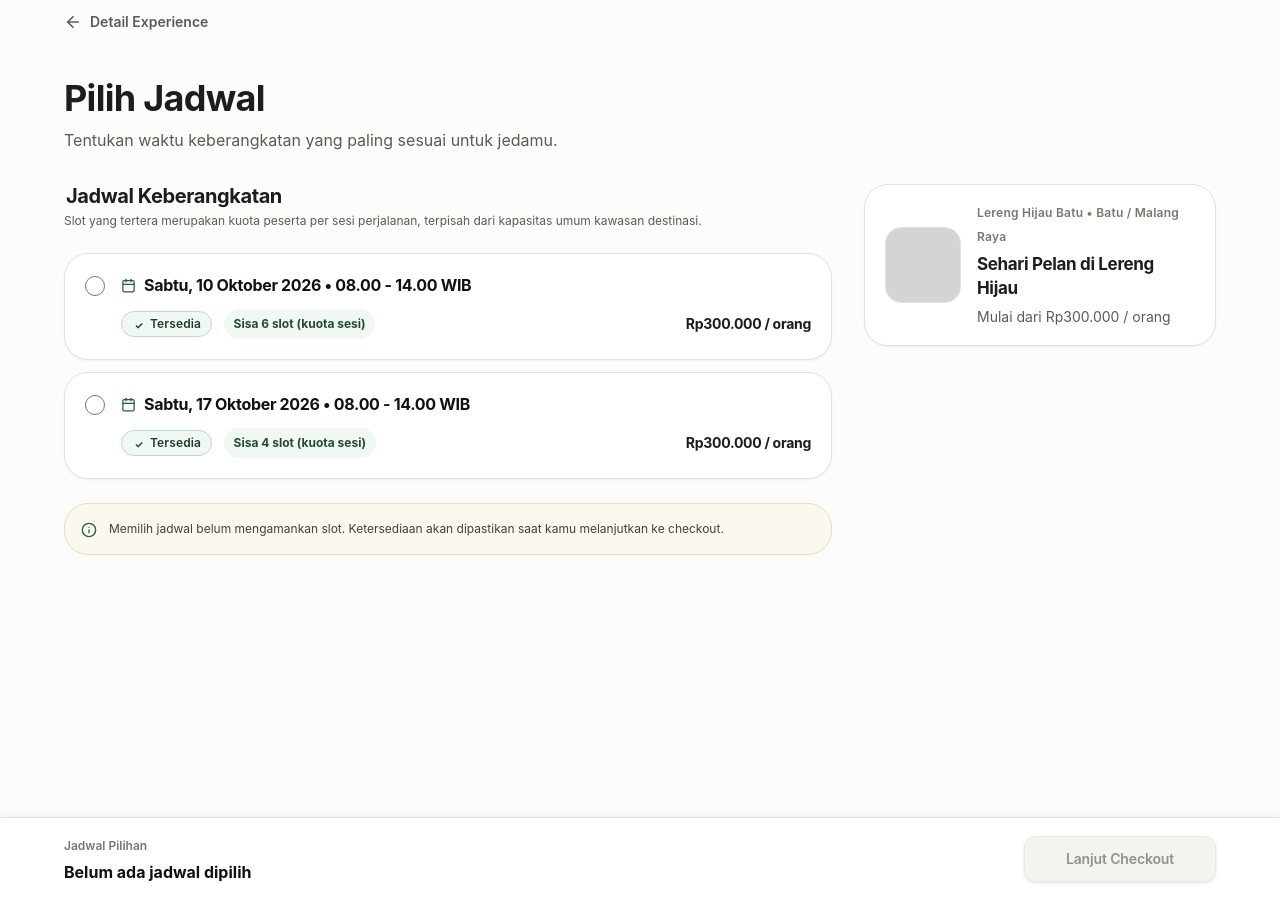
it: SessionSelectionScreen Tests & Contracts › 3 & 7. REAL OPEN -> FULL stale revalidation clears selection, updates card to Penuh disabled, and shows warning notice
Click the radio button labelled "Sabtu, 10 Oktober 2026 • 08.00 - 14.00 WIB" at x=95, y=286, box 85,276 -> 105,296
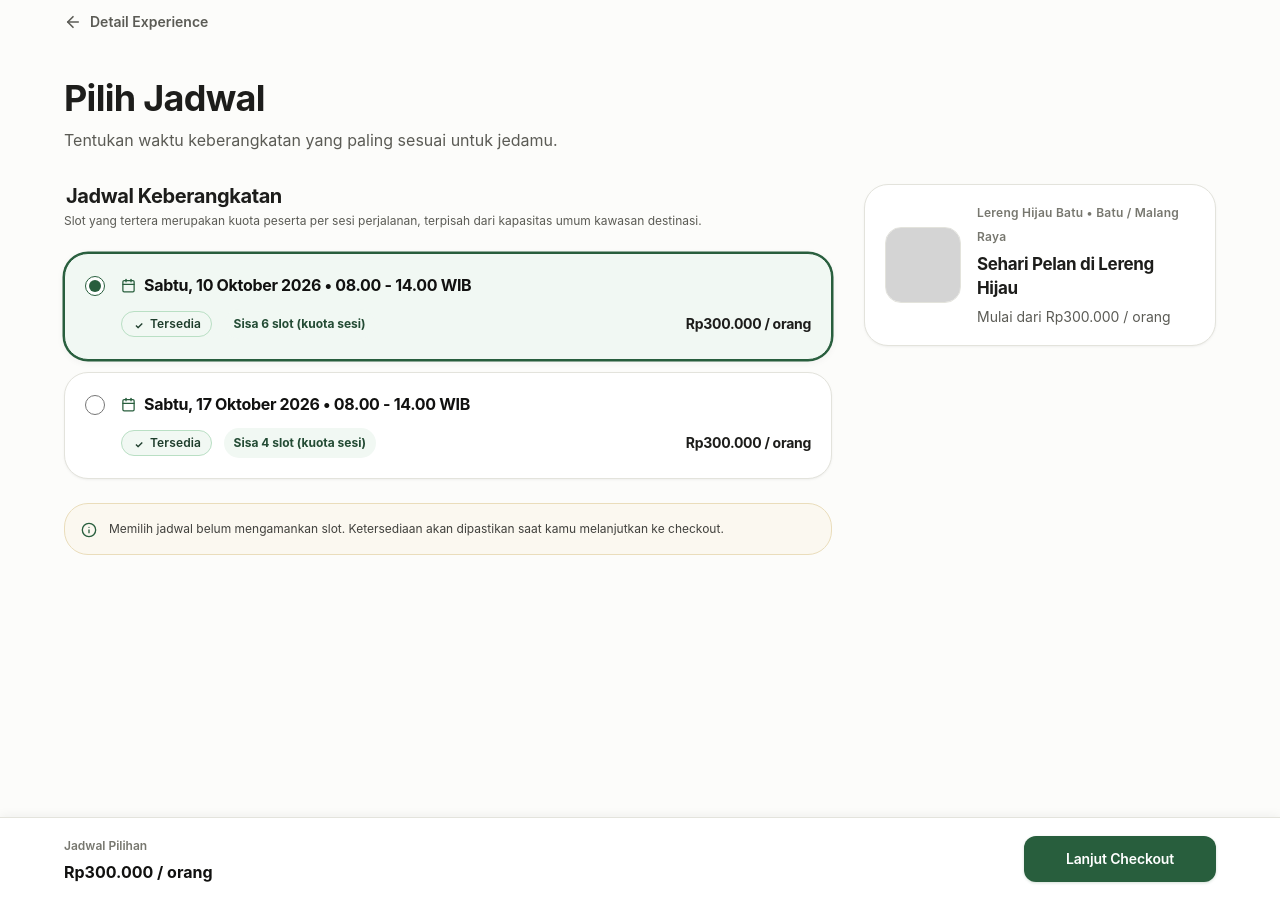
Click the button "Lanjut Checkout" at x=1120, y=859, box 1024,836 -> 1216,882
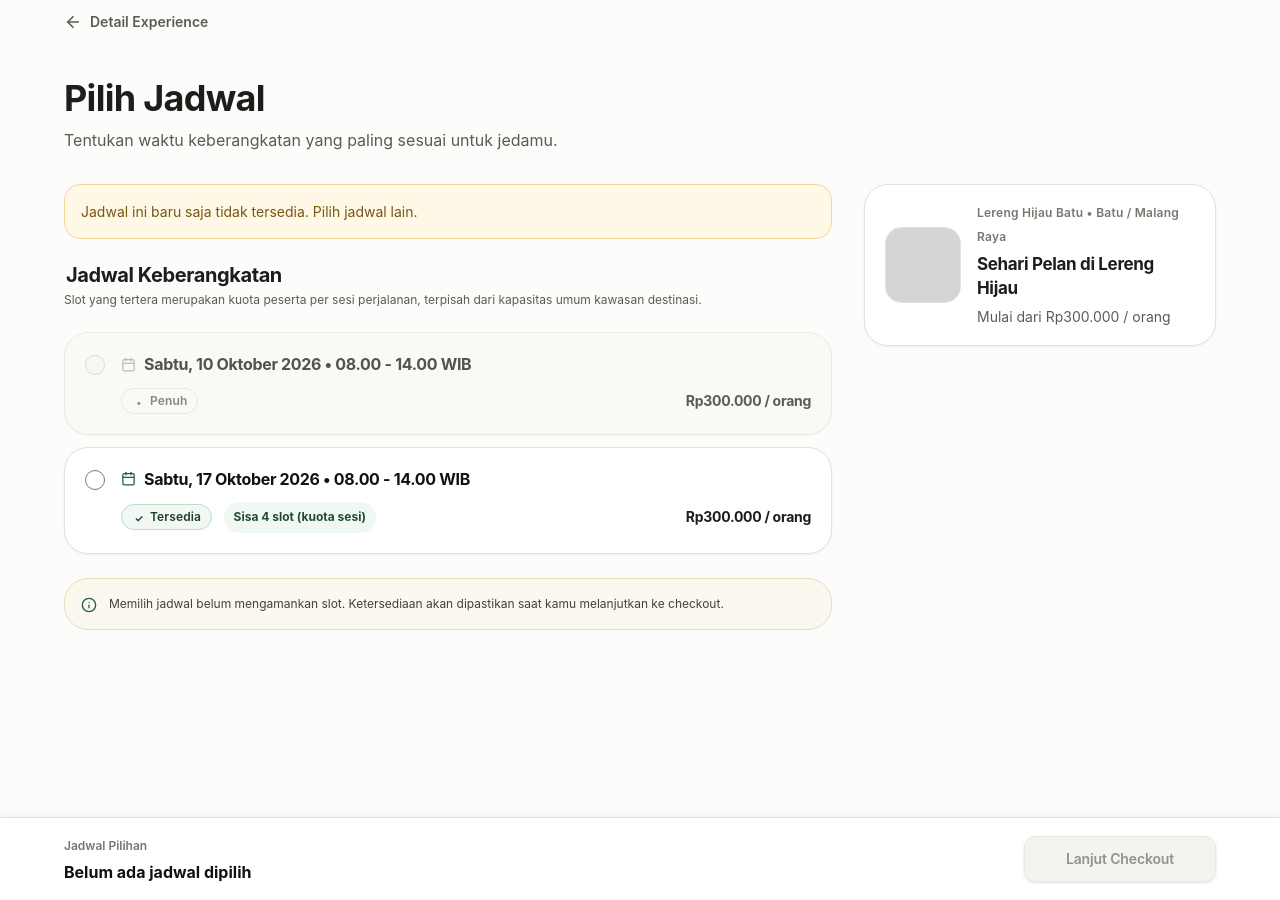
Result: the radio button labelled "Sabtu, 10 Oktober 2026 • 08.00 - 14.00 WIB" is not checked at 85,355 -> 105,375
Result: the text "Jadwal ini baru saja tidak tersedia. Pilih jadwal lain." is shown at 81,203 -> 418,220
Result: the element with class "session-card" shows "Penuh" at 150,393 -> 187,408
